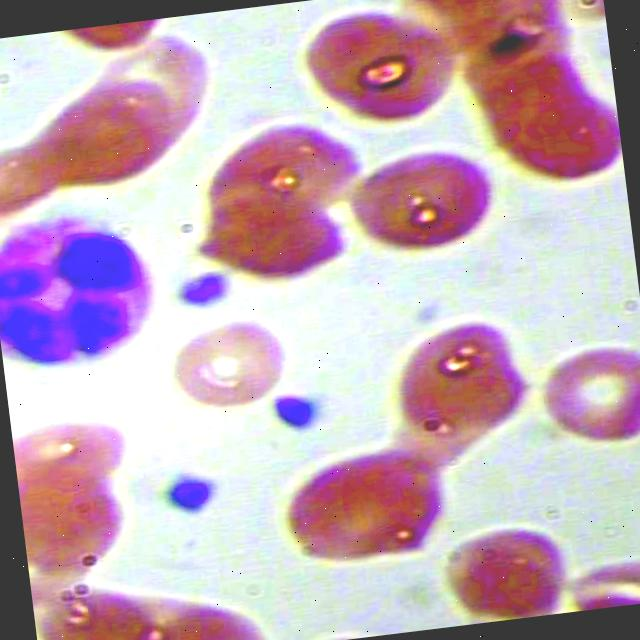Platelets: (160, 460, 226, 522), (166, 264, 235, 318), (258, 384, 324, 435)
RBC: (272, 440, 457, 578), (287, 0, 470, 137), (18, 62, 195, 202), (187, 175, 357, 298), (340, 133, 502, 260), (386, 308, 539, 440), (436, 508, 584, 626), (156, 302, 296, 424), (17, 460, 144, 580), (530, 332, 640, 452)
WBC: (0, 197, 168, 381)
